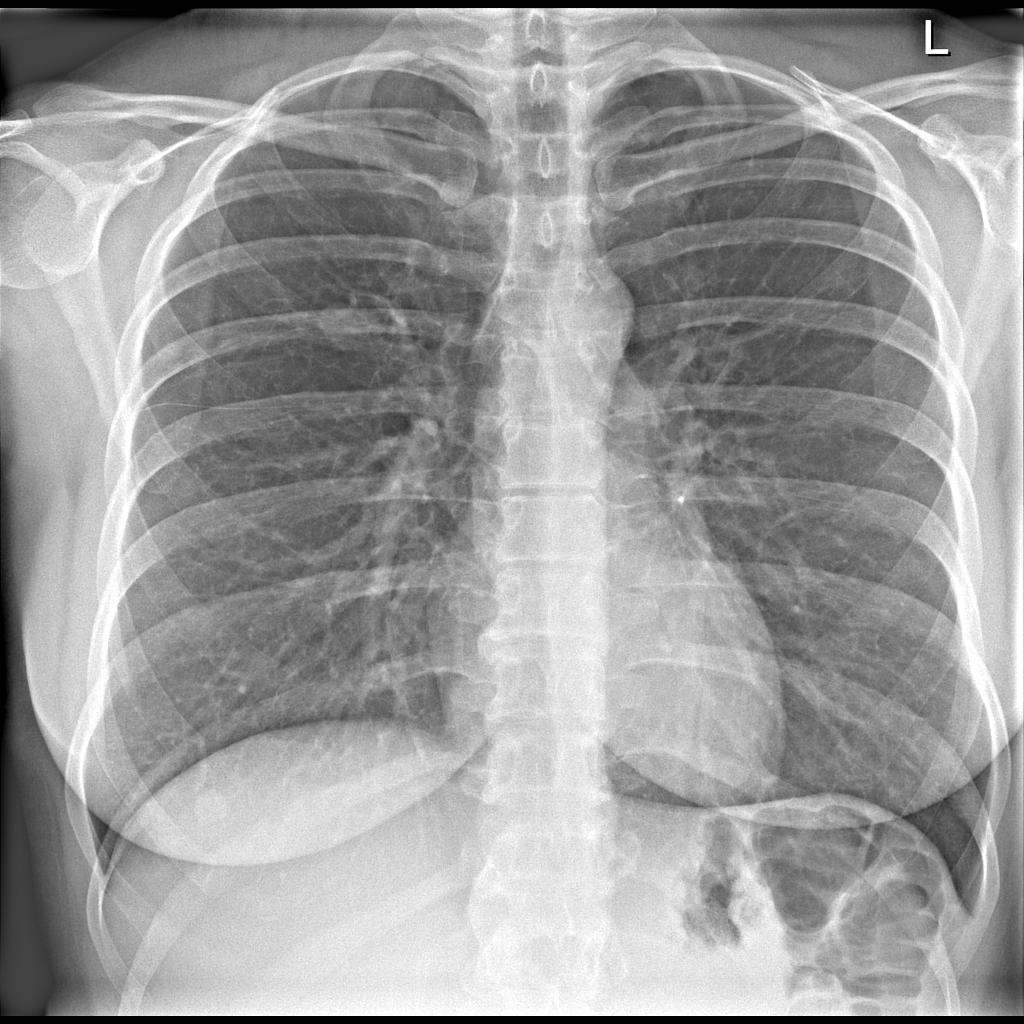Nodule: (306, 289, 377, 358)
